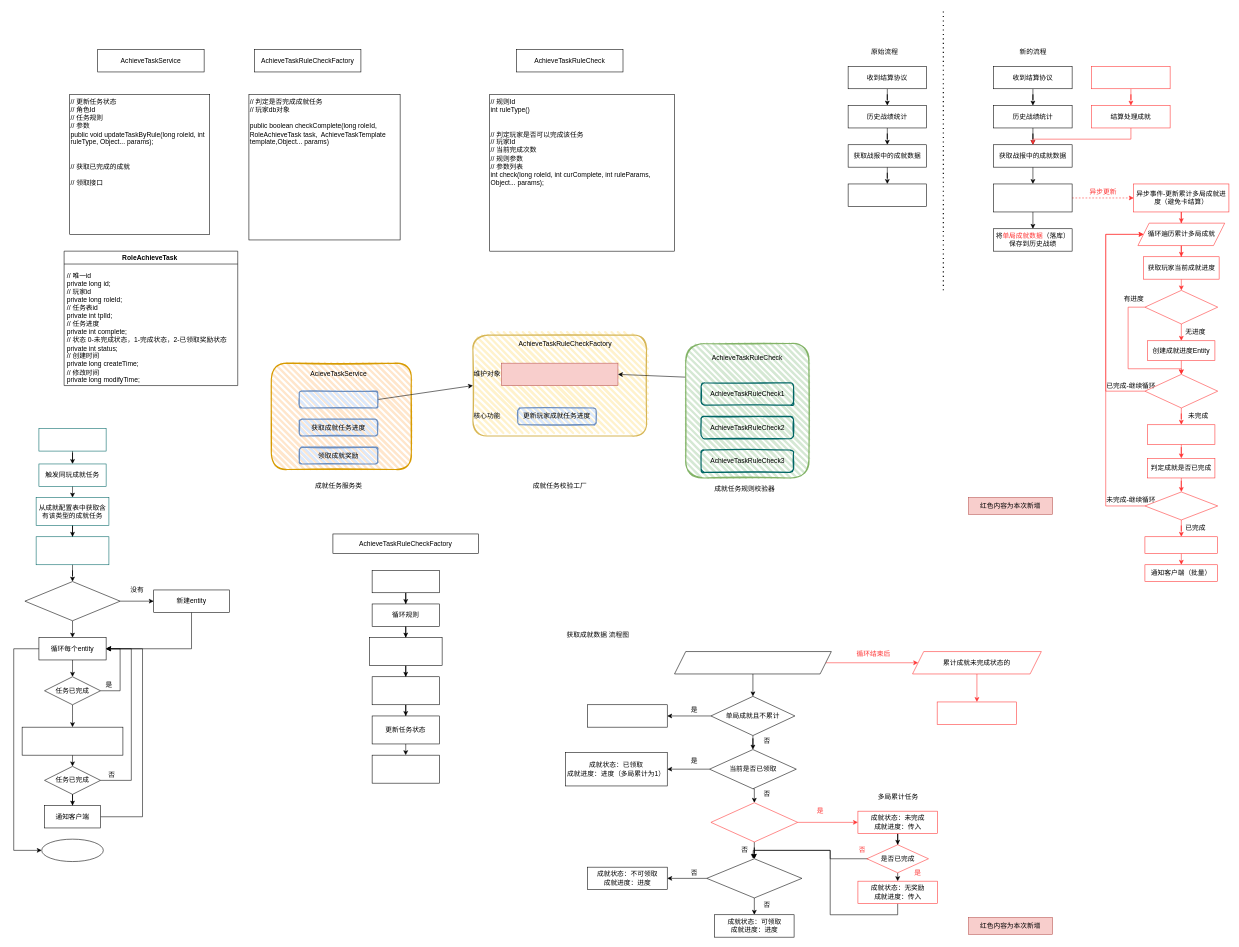
This 1239x947 diagram has some shape labels left out. Each missing label, with the centre of its shape:
"List<AchieveTaskRuleCheck>" goes at (559,374).
"上述配置中的成就任务 有对应的玩家成就entity" goes at (72,601).
"与好友同玩" goes at (72,439).
"交给AchieveTaskRuleCheckFactory 检查任务是否完成" goes at (72,741).
"保存成就进原始map中" goes at (1181,545).
"将成就分为 累计多局成就集合 和 单局成就集合" goes at (1032,197).
"循环成就Map （包含已完成的累计多局任务）" goes at (752,662).
"成就原本未完成" goes at (1181,391).
"成就当前已完成" goes at (1181,505).
"成就状态：无奖励 成就进度：累计进度" goes at (627,715).
"成就状态：进行中 成就进度：进度" goes at (977,712).
"收到PVE结算协议" goes at (1130,77).
"无奖励且 验证任务是否完成" goes at (754,878).
"是否是累计任务" goes at (754,822).
"更新成就任务进度" goes at (338,399).
"更新成就进度" goes at (1181,434).
"校验器校验 任务完成情况" goes at (405,690).
"没有成就进度数据" goes at (1181,307).
"结束" goes at (72,850).
"获取任务配置规则" goes at (405,581).
"获取玩家已包含该规则的成就entity" goes at (72,550).
"获取规则对应的 AchieveTaskRuleCheck" goes at (405,651).
"记录成就数据（落库） 保存到历史战绩" goes at (887,194).
"返回任务进度 是否变化" goes at (405,769).
